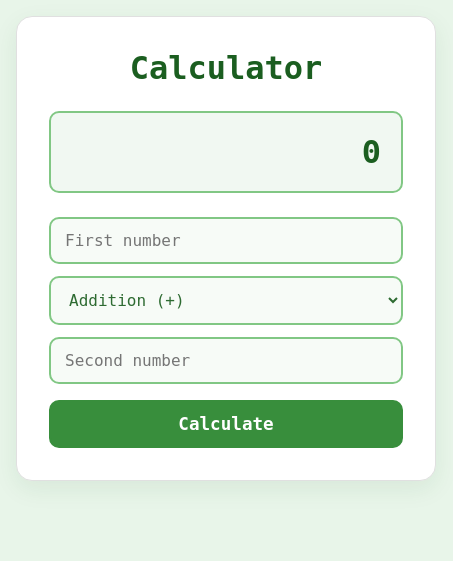
shows an error when numbers are missing
Click the button "Calculate" at (226, 424), box 49,400 -> 403,448
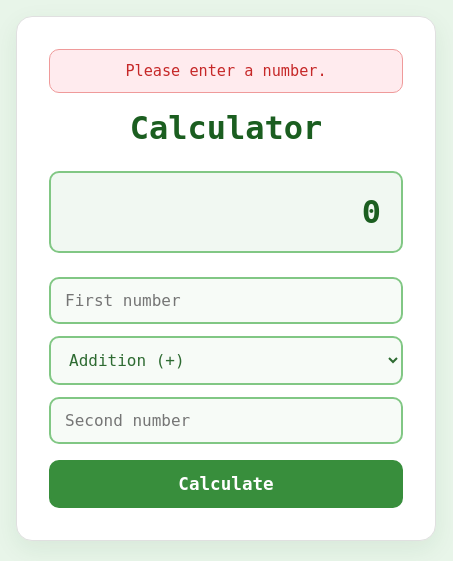
Expected: the text "Please enter a number." is shown, 49,49 -> 403,93
